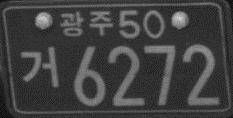0: (142, 8, 165, 38)
2: (106, 44, 146, 107), (183, 43, 220, 106)
5: (118, 9, 140, 38)
6: (72, 44, 107, 107)
7: (141, 43, 176, 106)
거: (19, 45, 60, 89)
광주_O: (59, 9, 113, 36)
